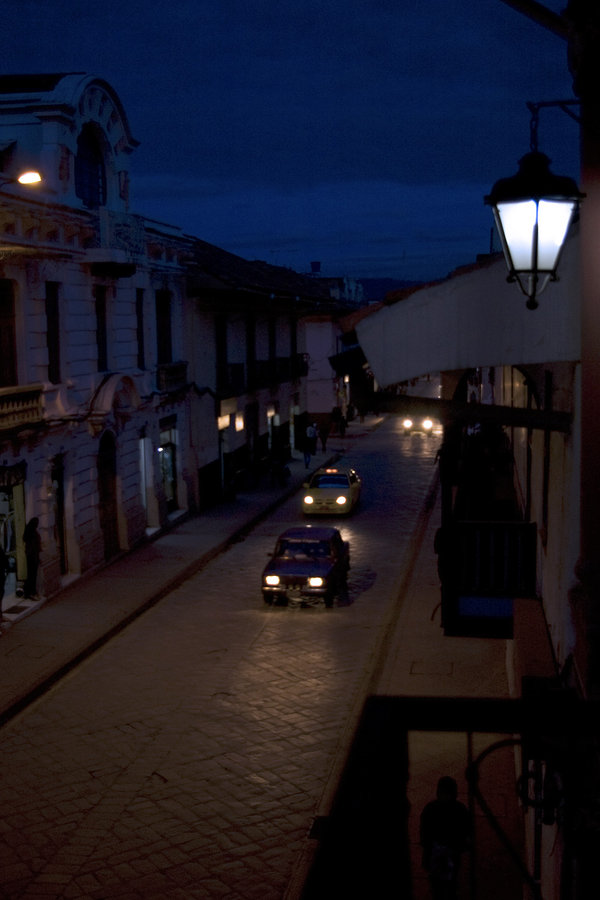car: (256, 525, 362, 615)
